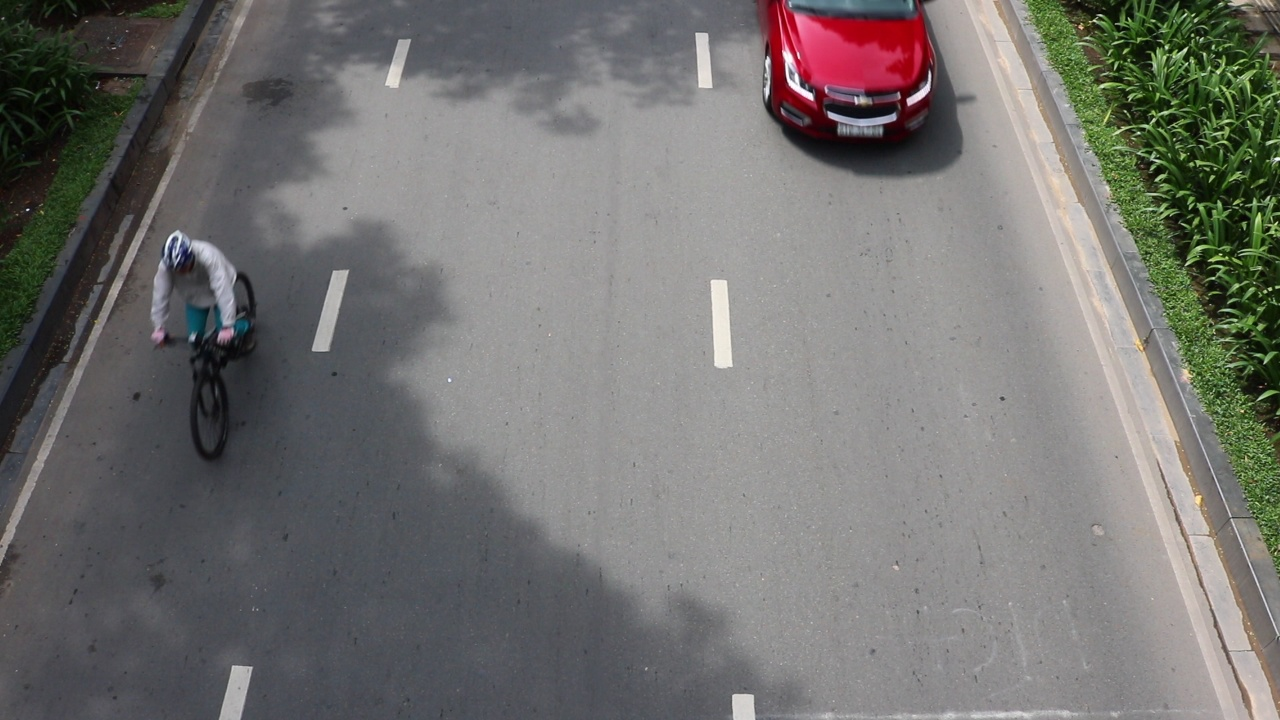bicycle: (178, 296, 261, 472)
